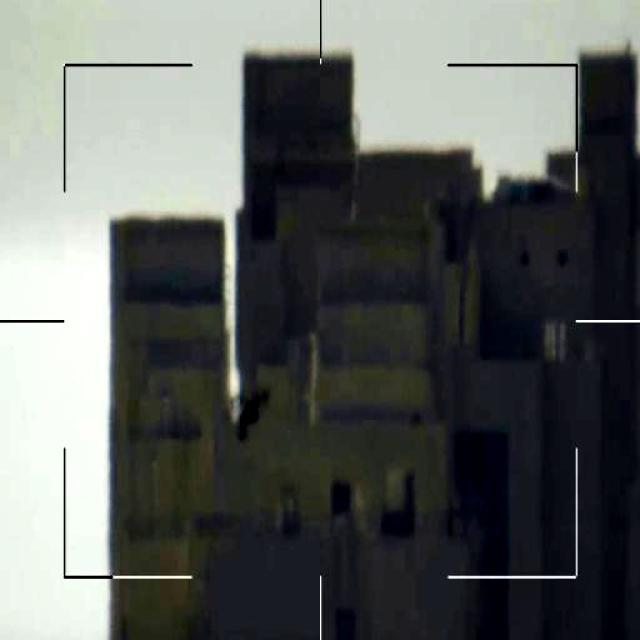bird: (222, 384, 280, 452)
